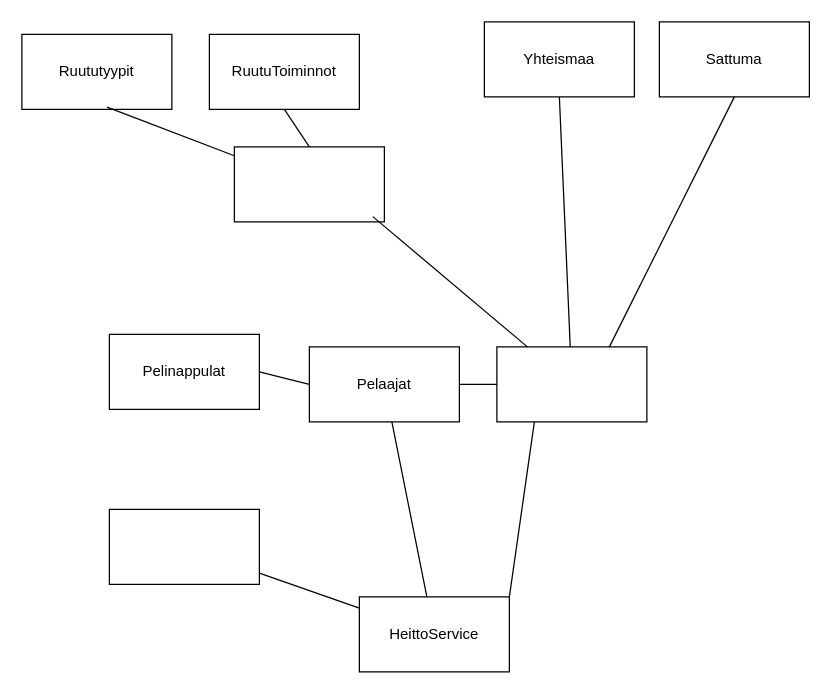
This 831x694 diagram has some shape labels left out. The box of each missing label's shape, as (x1, y1, x2, y2) in pixels:
Monopoli: (496, 346, 647, 422)
Nopat: (108, 508, 259, 584)
Ruudut: (233, 146, 384, 222)
